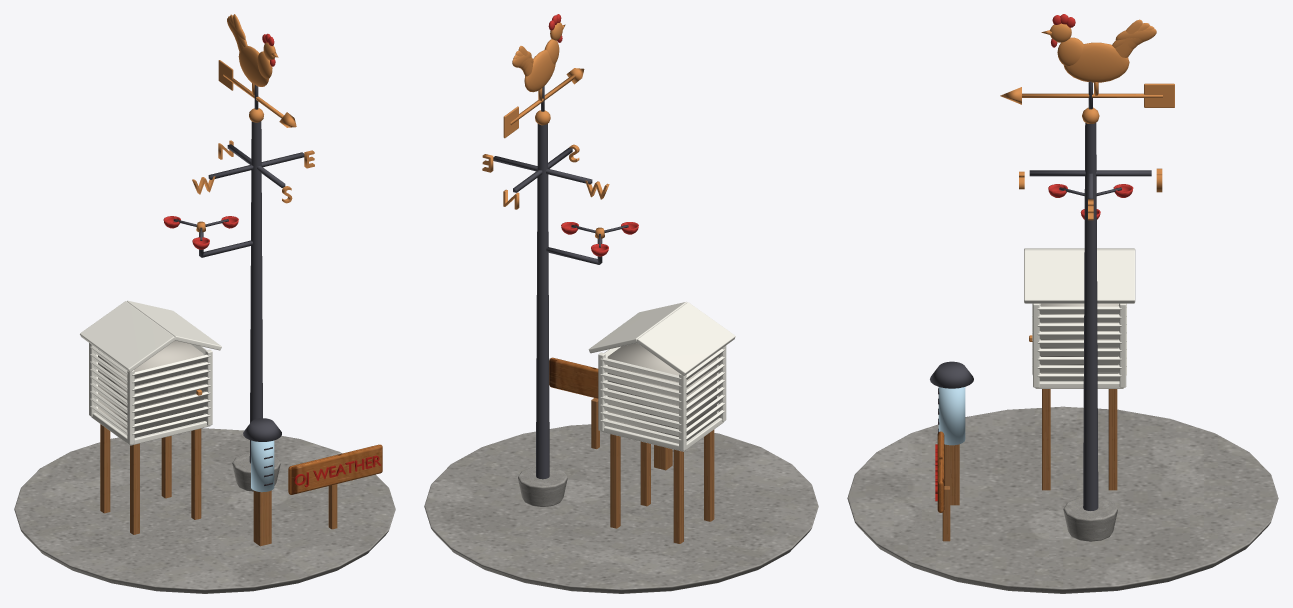
The model's file is weatherstation.glb.
3 renders of one model, left to right at view 1: azimuth 30°, elevation 25°; view 2: azimuth 150°, elevation 25°; view 3: azimuth 270°, elevation 25°, orthographic. The views are drawn at different scales.
Parts seen in each view (by area): view 1: pad, roof_l, pole, ws_sign, screen_inner, roof_r, gauge_tube, gauge_post, leg.002, leg.001, leg, screen_floor (+16 smaller); view 2: pad, pole, roof_l, screen_inner, roof_r, ws_sign, pole_foot, leg.001, leg.003, leg, screen_floor, r_body (+12 smaller); view 3: pad, roof_r, pole, pole_foot, r_body, gauge_tube, screen_inner, leg.003, gauge_funnel, leg.002, gauge_post, arm_ns (+10 smaller).
Part boxes in pixels (<box>): pad: <box>14,428,395,593</box>; roof_l: <box>80,301,175,372</box>; pole: <box>249,121,262,463</box>; ws_sign: <box>288,444,382,494</box>; screen_inner: <box>98,340,203,431</box>; roof_r: <box>127,300,221,350</box>; gauge_tube: <box>251,440,274,492</box>; gauge_post: <box>253,490,271,546</box>; leg.002: <box>191,428,201,519</box>; leg.001: <box>100,424,110,513</box>; leg: <box>130,443,139,534</box>; screen_floor: <box>91,413,210,445</box>; pad: <box>424,424,818,593</box>; pole: <box>536,124,549,479</box>; roof_l: <box>637,302,735,375</box>; screen_inner: <box>607,343,716,436</box>; roof_r: <box>588,302,686,353</box>; ws_sign: <box>549,357,598,398</box>; pole_foot: <box>518,467,567,506</box>; leg.001: <box>673,449,683,543</box>; leg.003: <box>610,434,620,528</box>; leg: <box>704,430,714,521</box>; screen_floor: <box>600,418,723,451</box>; r_body: <box>524,50,555,92</box>; pad: <box>847,406,1278,593</box>; roof_r: <box>1024,250,1135,303</box>; pole: <box>1083,123,1098,510</box>; pole_foot: <box>1063,498,1117,541</box>; r_body: <box>1063,42,1129,82</box>; gauge_tube: <box>938,387,965,445</box>; screen_inner: <box>1040,303,1118,373</box>; leg.003: <box>1108,389,1117,490</box>; gauge_funnel: <box>930,361,973,388</box>; leg.002: <box>1042,389,1050,490</box>; gauge_post: <box>944,444,959,505</box>; arm_ns: <box>1029,170,1151,176</box>.
Size of the model in its own units: 3.88 by 5.23 by 3.88.
Materials: 12 (3 with a texture image).
